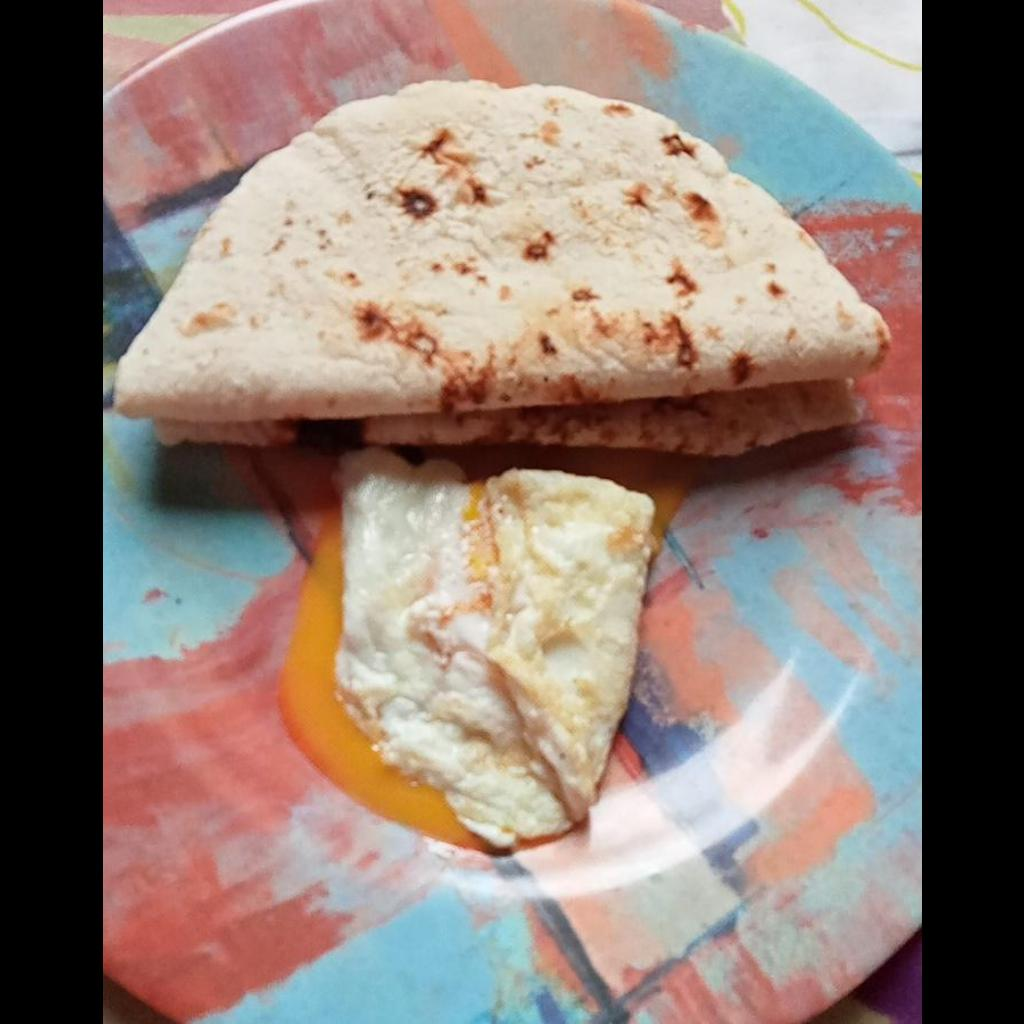egg-poached: (275, 453, 652, 853)
ruti: (108, 77, 893, 455)
